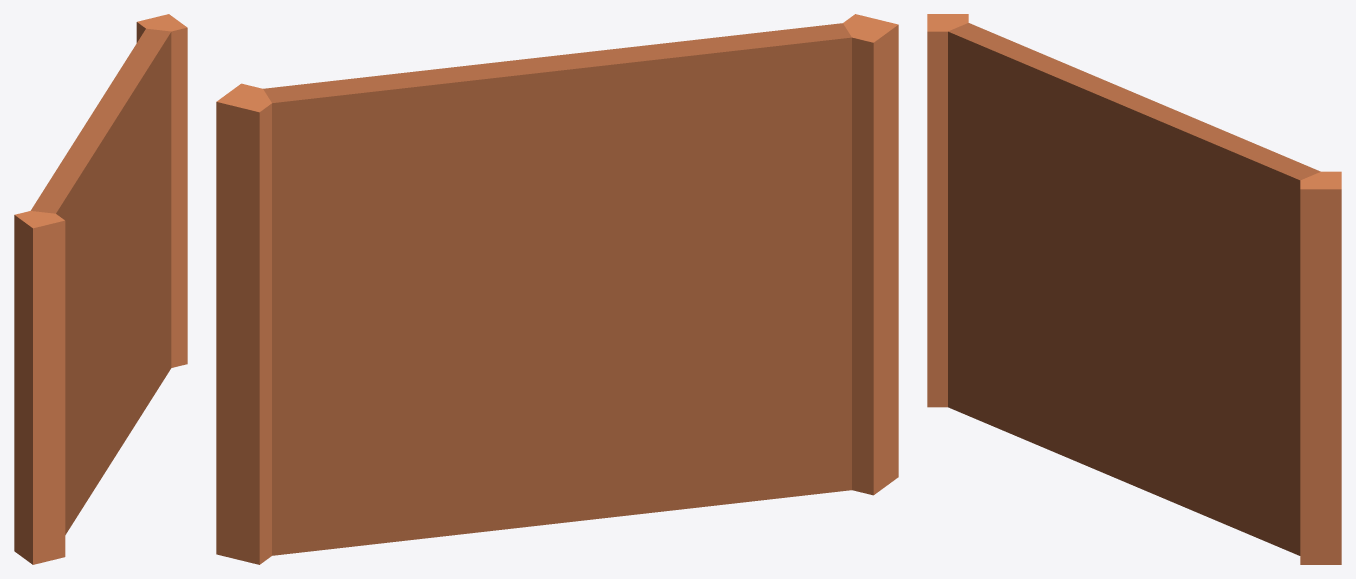
File: wallWoodDiagonal.fbx
3 renders of one model, left to right at view 1: azimuth 30°, elevation 25°; view 2: azimuth 150°, elevation 25°; view 3: azimuth 270°, elevation 25°, orthographic. The views are drawn at different scales.
Visible parts, largest first — view 1: wallWoodDiagonal; view 2: wallWoodDiagonal; view 3: wallWoodDiagonal.
Part boxes in pixels (x1=…): wallWoodDiagonal: x1=14, y1=14, x2=187, y2=564; wallWoodDiagonal: x1=216, y1=14, x2=898, y2=564; wallWoodDiagonal: x1=927, y1=14, x2=1341, y2=564.
Size of the model in its own units: 10 by 10 by 10.
